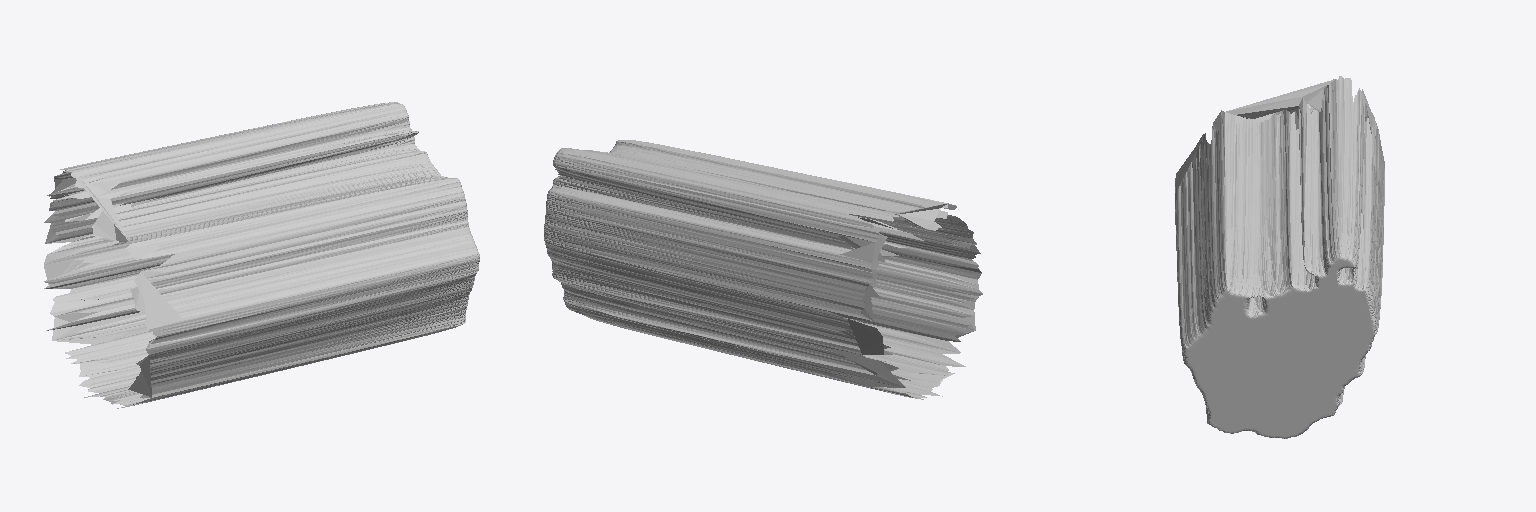
3 renders of one model, left to right at view 1: azimuth 30°, elevation 25°; view 2: azimuth 150°, elevation 25°; view 3: azimuth 270°, elevation 25°, orthographic.
Visible parts, largest first — view 1: GOPR0053; view 2: GOPR0053; view 3: GOPR0053.
Part boxes in pixels (left/top/right/bottom): GOPR0053: left=44, top=102, right=479, bottom=408; GOPR0053: left=544, top=140, right=982, bottom=399; GOPR0053: left=1175, top=76, right=1384, bottom=438.
Bounding box in the file's own units: 0.6165 × 0.3339 × 0.3155.